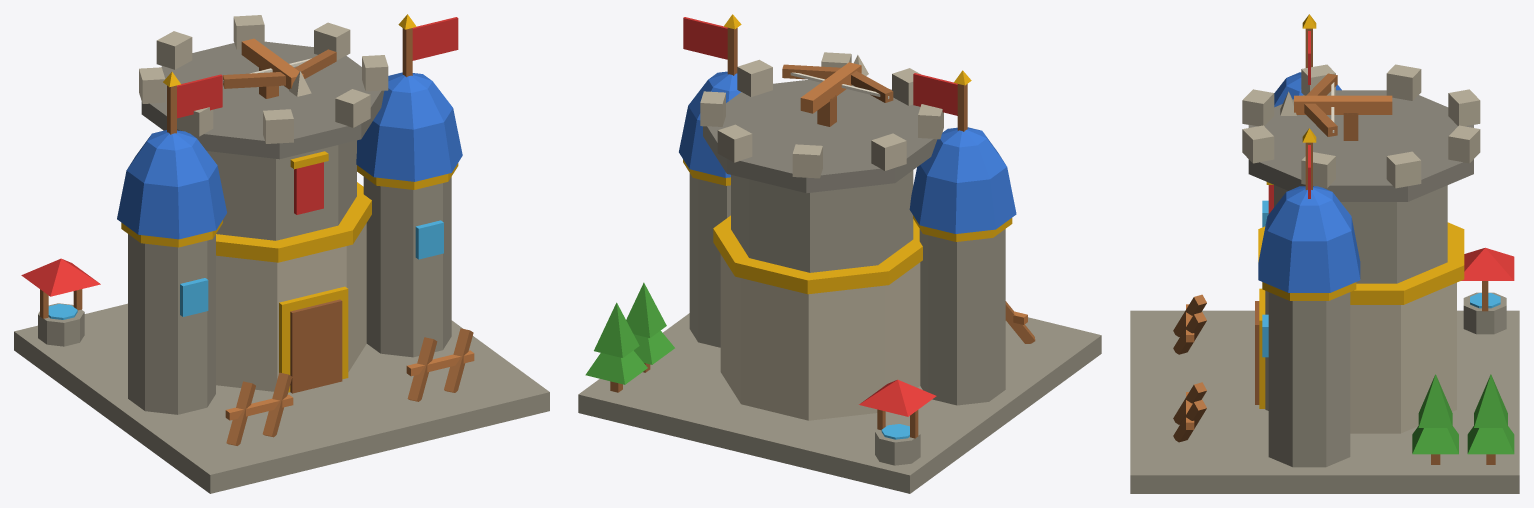
Rendered from defense_tower_t3_v3.glb.
The picture shows the model from 3 angles, left to right: view 1: azimuth 30°, elevation 25°; view 2: azimuth 150°, elevation 25°; view 3: azimuth 270°, elevation 25°; orthographic projection. The views are drawn at different scales.
Parts seen in each view (by area): view 1: defense_tower_t3_v3; view 2: defense_tower_t3_v3; view 3: defense_tower_t3_v3.
Boxes of the visible parts, box(x1,y1,x2,y2) form: defense_tower_t3_v3: box(14, 14, 549, 493); defense_tower_t3_v3: box(578, 14, 1101, 493); defense_tower_t3_v3: box(1130, 14, 1519, 493).
Bounding box in the file's own units: 0.75 × 0.725 × 0.75.
Materials: 1 (1 with a texture image).
